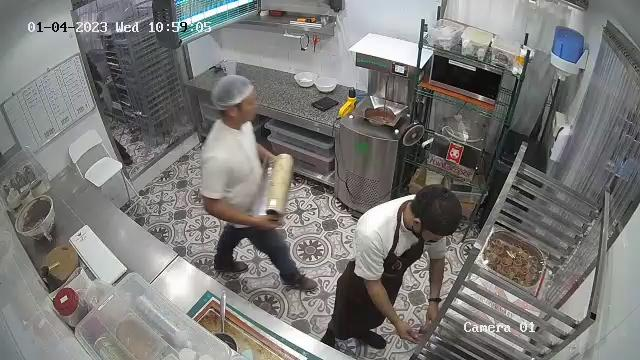apron: (340, 211, 430, 320)
no_apron: (213, 118, 276, 223)
